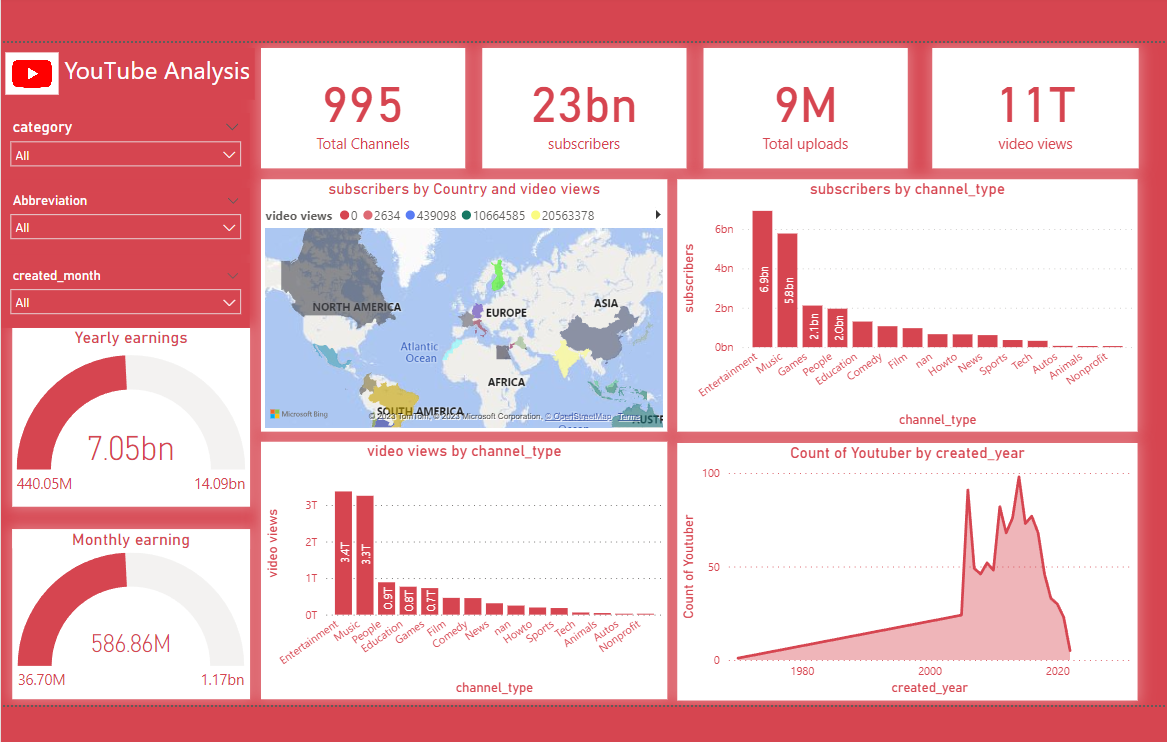

Layout of this report page (visuals, bound fields, positions):
{"tool":"powerbi","page":{"name":"Page 1","canvas":[1279,726],"ordinal":0},"visuals":[{"type":"card","fields":{"Values":["Count(Onyx Data -DataDNA Dataset Challenge - Top 1000 YouTubers - November 2023.Youtuber)"]},"box":[285.4,5.5,223.6,131.7],"z":0},{"type":"textbox","box":[5.5,5.5,272.6,56.7],"z":1000},{"type":"image","box":[0,5.5,68.6,56.2],"z":2000},{"type":"card","fields":{"Values":["Sum(Onyx Data -DataDNA Dataset Challenge - Top 1000 YouTubers - November 2023.subscribers)"]},"box":[528.2,5.5,223.6,131.7],"z":3000},{"type":"gauge","title":"Monthly earning","fields":{"Y":["Sum(Onyx Data -DataDNA Dataset Challenge - Top 1000 YouTubers - November 2023.highest_monthly_earnings)"],"MinValue":["Sum(Onyx Data -DataDNA Dataset Challenge - Top 1000 YouTubers - November 2023.lowest_monthly_earnings)"]},"box":[12.3,533.7,260.7,186.6],"z":4000},{"type":"gauge","title":"Yearly earnings ","fields":{"Y":["Sum(Onyx Data -DataDNA Dataset Challenge - Top 1000 YouTubers - November 2023.highest_yearly_earnings)"],"MinValue":["Sum(Onyx Data -DataDNA Dataset Challenge - Top 1000 YouTubers - November 2023.lowest_yearly_earnings)"]},"box":[12.3,312.8,260.7,196.2],"z":5000},{"type":"filledMap","fields":{"Category":["Onyx Data -DataDNA Dataset Challenge - Top 1000 YouTubers - November 2023.Country"],"Series":["Onyx Data -DataDNA Dataset Challenge - Top 1000 YouTubers - November 2023.video views"]},"box":[285.4,149.5,445.9,277.1],"z":6000},{"type":"slicer","fields":{"Values":["Onyx Data -DataDNA Dataset Challenge - Top 1000 YouTubers - November 2023.category"]},"box":[0,76.8,273,72.7],"z":7000},{"type":"columnChart","fields":{"Y":["Sum(Onyx Data -DataDNA Dataset Challenge - Top 1000 YouTubers - November 2023.subscribers)"],"Category":["Onyx Data -DataDNA Dataset Challenge - Top 1000 YouTubers - November 2023.channel_type"]},"box":[742.2,149.5,504.9,277.1],"z":8000},{"type":"clusteredColumnChart","fields":{"Category":["Onyx Data -DataDNA Dataset Challenge - Top 1000 YouTubers - November 2023.channel_type"],"Y":["Sum(Onyx Data -DataDNA Dataset Challenge - Top 1000 YouTubers - November 2023.video views)"]},"box":[285.4,437.6,445.9,282.6],"z":9000},{"type":"slicer","fields":{"Values":["Onyx Data -DataDNA Dataset Challenge - Top 1000 YouTubers - November 2023.Abbreviation"]},"box":[0,159.1,273,72.7],"z":10000},{"type":"stackedAreaChart","fields":{"Y":["CountNonNull(Onyx Data -DataDNA Dataset Challenge - Top 1000 YouTubers - November 2023.Youtuber)"],"Category":["Onyx Data -DataDNA Dataset Challenge - Top 1000 YouTubers - November 2023.created_year"]},"box":[742,438,505,282],"z":11000},{"type":"slicer","fields":{"Values":["Onyx Data -DataDNA Dataset Challenge - Top 1000 YouTubers - November 2023.created_month"]},"box":[0,241.5,273,71.3],"z":12000},{"type":"card","fields":{"Values":["Sum(Onyx Data -DataDNA Dataset Challenge - Top 1000 YouTubers - November 2023.uploads)"]},"box":[771,5.5,223.6,131.7],"z":13000},{"type":"card","fields":{"Values":["Sum(Onyx Data -DataDNA Dataset Challenge - Top 1000 YouTubers - November 2023.video views)"]},"box":[1020.7,5.5,226.4,131.7],"z":14000}]}

Visuals, with their boxes on the page's 1279x726 design canvas (x1, y1, x2, y2). These are canvas units, not pixel positions in the 1167x742 screenshot, which may show the page scaled, cropped or inside an application window:
card - Count(Onyx Data -DataDNA Dataset Challenge - Top 1000 YouTubers - November 2023.Youtuber): l=285, t=6, r=509, b=137
textbox: l=6, t=6, r=278, b=62
image: l=0, t=6, r=69, b=62
card - Sum(Onyx Data -DataDNA Dataset Challenge - Top 1000 YouTubers - November 2023.subscribers): l=528, t=6, r=752, b=137
"Monthly earning" gauge: l=12, t=534, r=273, b=720
"Yearly earnings " gauge: l=12, t=313, r=273, b=509
filledMap - Onyx Data -DataDNA Dataset Challenge - Top 1000 YouTubers - November 2023.Country x Onyx Data -DataDNA Dataset Challenge - Top 1000 YouTubers - November 2023.video views: l=285, t=150, r=731, b=427
slicer - Onyx Data -DataDNA Dataset Challenge - Top 1000 YouTubers - November 2023.category: l=0, t=77, r=273, b=150
columnChart - Sum(Onyx Data -DataDNA Dataset Challenge - Top 1000 YouTubers - November 2023.subscribers) x Onyx Data -DataDNA Dataset Challenge - Top 1000 YouTubers - November 2023.channel_type: l=742, t=150, r=1247, b=427
clusteredColumnChart - Onyx Data -DataDNA Dataset Challenge - Top 1000 YouTubers - November 2023.channel_type x Sum(Onyx Data -DataDNA Dataset Challenge - Top 1000 YouTubers - November 2023.video views): l=285, t=438, r=731, b=720
slicer - Onyx Data -DataDNA Dataset Challenge - Top 1000 YouTubers - November 2023.Abbreviation: l=0, t=159, r=273, b=232
stackedAreaChart - CountNonNull(Onyx Data -DataDNA Dataset Challenge - Top 1000 YouTubers - November 2023.Youtuber) x Onyx Data -DataDNA Dataset Challenge - Top 1000 YouTubers - November 2023.created_year: l=742, t=438, r=1247, b=720
slicer - Onyx Data -DataDNA Dataset Challenge - Top 1000 YouTubers - November 2023.created_month: l=0, t=242, r=273, b=313
card - Sum(Onyx Data -DataDNA Dataset Challenge - Top 1000 YouTubers - November 2023.uploads): l=771, t=6, r=995, b=137
card - Sum(Onyx Data -DataDNA Dataset Challenge - Top 1000 YouTubers - November 2023.video views): l=1021, t=6, r=1247, b=137
